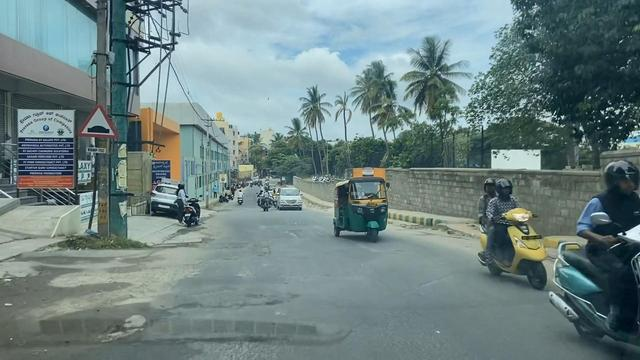RoadDamages: (69, 292, 174, 360), (395, 255, 473, 303), (276, 222, 328, 261)
